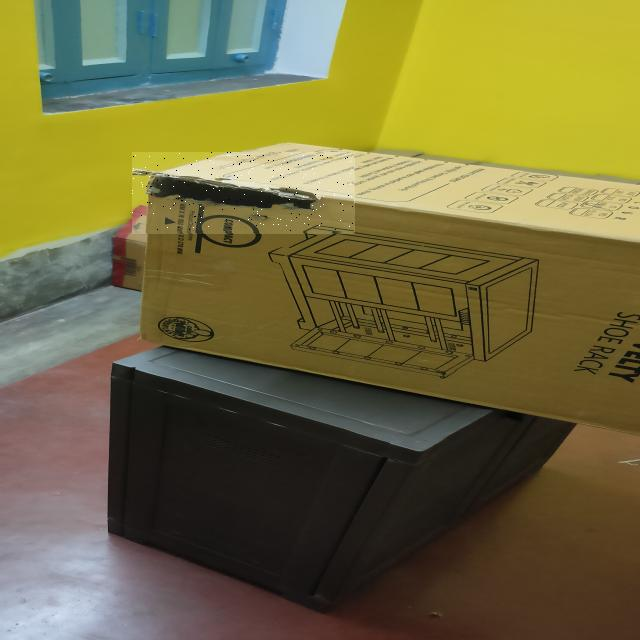tear: (132, 153, 354, 232)
